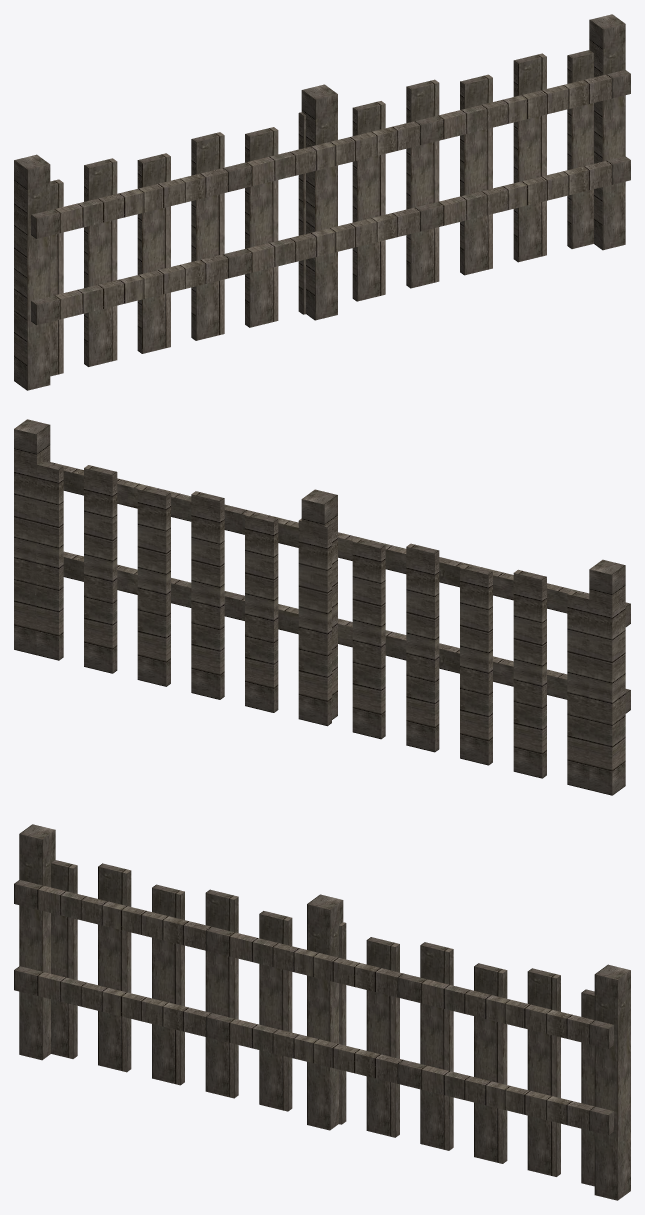
The model's file is wood_fence_01.glb.
3 views of the same model, one above another, from view 1: azimuth 30°, elevation 25°; view 2: azimuth 150°, elevation 25°; view 3: azimuth 330°, elevation 25° (orthographic).
Parts seen in each view (by area): view 1: wood_fence_01; view 2: wood_fence_01; view 3: wood_fence_01.
Part boxes in pixels (left/top/right/bottom): wood_fence_01: left=14, top=14, right=630, bottom=390; wood_fence_01: left=14, top=419, right=630, bottom=795; wood_fence_01: left=14, top=824, right=630, bottom=1200.
Bounding box in the file's own units: 3.12 × 1.1 × 0.1851.
Materials: 1 (1 with a texture image).
